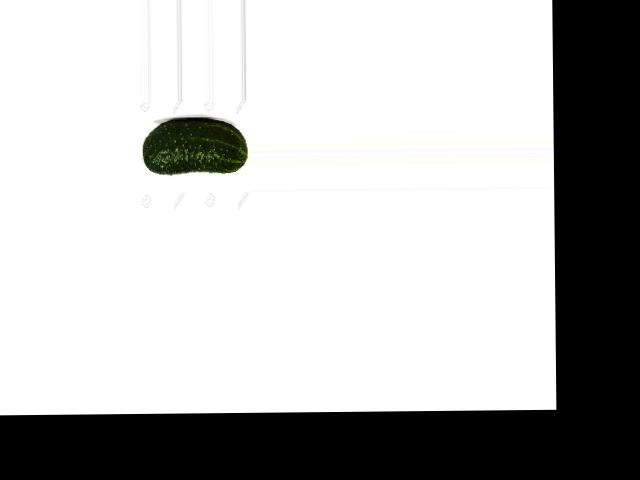cucumber: (141, 117, 247, 173)
